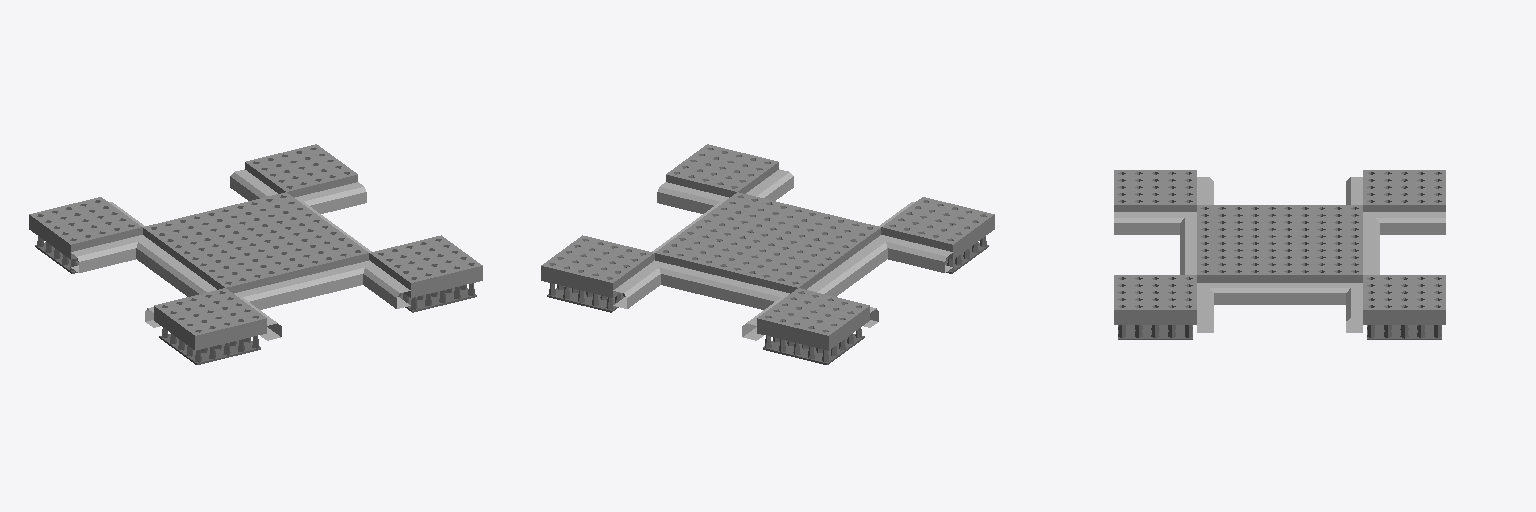
The model's file is traps2.obj.
3 renders of one model, left to right at view 1: azimuth 30°, elevation 25°; view 2: azimuth 150°, elevation 25°; view 3: azimuth 270°, elevation 25°, orthographic.
Parts seen in each view (by area): view 1: trap_floor_spikes_17, trap_floor_spikes_11, trap_floor_spikes_16, trap_floor_spikes_14, trap_floor_spikes_13, trap_floor_spikes_10, trap_floor_spikes_15, trap_floor_spikes_12, struct_wall_base_half_26, struct_wall_base_half_29, struct_wall_base_half_28, struct_wall_base_half_24 (+2 smaller); view 2: trap_floor_spikes_16, trap_floor_spikes_13, trap_floor_spikes_17, trap_floor_spikes_15, trap_floor_spikes_11, trap_floor_spikes_12, trap_floor_spikes_14, trap_floor_spikes_10, struct_wall_base_half_32, struct_wall_base_half_29, struct_wall_base_half_30, struct_wall_base_half_22 (+2 smaller); view 3: trap_floor_spikes_11, trap_floor_spikes_13, trap_floor_spikes_10, trap_floor_spikes_12, trap_floor_spikes_16, trap_floor_spikes_17, struct_wall_base_half_23, trap_floor_spikes_14, trap_floor_spikes_15, struct_wall_base_half_25, struct_wall_base_half_33, struct_wall_base_half_32 (+3 smaller).
Part boxes in pixels (left/top/right/bottom): trap_floor_spikes_17: left=154, top=288, right=266, bottom=364; trap_floor_spikes_11: left=369, top=235, right=482, bottom=312; trap_floor_spikes_16: left=29, top=197, right=142, bottom=273; trap_floor_spikes_14: left=184, top=240, right=297, bottom=293; trap_floor_spikes_13: left=245, top=144, right=357, bottom=197; trap_floor_spikes_10: left=257, top=223, right=368, bottom=277; trap_floor_spikes_15: left=143, top=210, right=254, bottom=264; trap_floor_spikes_12: left=215, top=192, right=327, bottom=239; struct_wall_base_half_26: left=235, top=260, right=370, bottom=309; struct_wall_base_half_29: left=132, top=235, right=216, bottom=296; struct_wall_base_half_28: left=71, top=235, right=145, bottom=272; struct_wall_base_half_24: left=295, top=182, right=366, bottom=213; trap_floor_spikes_16: left=757, top=288, right=869, bottom=364; trap_floor_spikes_13: left=541, top=235, right=654, bottom=312; trap_floor_spikes_17: left=881, top=197, right=994, bottom=273; trap_floor_spikes_15: left=726, top=240, right=839, bottom=293; trap_floor_spikes_11: left=666, top=144, right=778, bottom=197; trap_floor_spikes_12: left=655, top=223, right=766, bottom=277; trap_floor_spikes_14: left=769, top=210, right=880, bottom=264; trap_floor_spikes_10: left=696, top=192, right=808, bottom=239; struct_wall_base_half_32: left=652, top=260, right=789, bottom=309; struct_wall_base_half_29: left=807, top=237, right=887, bottom=296; struct_wall_base_half_30: left=879, top=235, right=952, bottom=272; struct_wall_base_half_22: left=657, top=182, right=728, bottom=213; trap_floor_spikes_11: left=1114, top=275, right=1196, bottom=339; trap_floor_spikes_13: left=1363, top=275, right=1445, bottom=339; trap_floor_spikes_10: left=1197, top=240, right=1279, bottom=282; trap_floor_spikes_12: left=1280, top=240, right=1362, bottom=282; trap_floor_spikes_16: left=1363, top=170, right=1445, bottom=211; trap_floor_spikes_17: left=1114, top=170, right=1196, bottom=211; struct_wall_base_half_23: left=1197, top=283, right=1362, bottom=304; trap_floor_spikes_14: left=1197, top=205, right=1279, bottom=239; trap_floor_spikes_15: left=1280, top=205, right=1362, bottom=239; struct_wall_base_half_25: left=1114, top=212, right=1196, bottom=234; struct_wall_base_half_33: left=1363, top=212, right=1445, bottom=234; struct_wall_base_half_32: left=1363, top=212, right=1379, bottom=274.
Bounding box in the file's own units: 4 × 0.425 × 4.